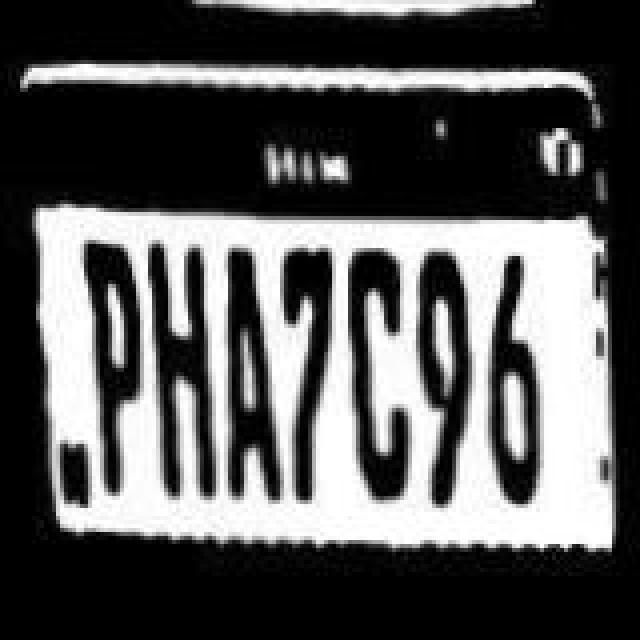6: (478, 246, 542, 518)
7: (276, 238, 340, 510)
9: (412, 254, 472, 514)
A: (218, 240, 286, 504)
C: (344, 242, 416, 506)
H: (140, 232, 220, 496)
P: (70, 232, 146, 512)
